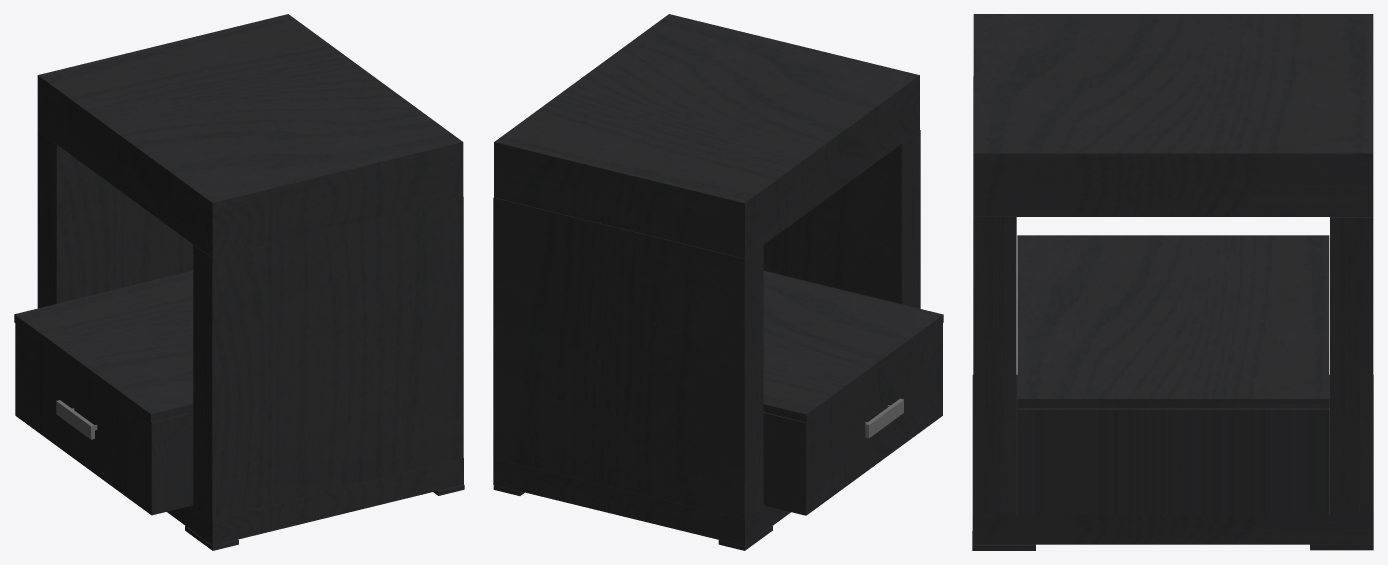
File: mul.gltf
3 views of the same model, side by side, from view 1: azimuth 30°, elevation 25°; view 2: azimuth 150°, elevation 25°; view 3: azimuth 270°, elevation 25° (orthographic). The views are drawn at different scales.
Visible parts, largest first — view 1: Cubo.001, Cubo.002; view 2: Cubo.001, Cubo.002; view 3: Cubo.001.
Boxes of the visible parts, bbox=[...] form: Cubo.001: bbox=[14, 14, 464, 550]; Cubo.002: bbox=[56, 400, 97, 439]; Cubo.001: bbox=[493, 14, 943, 550]; Cubo.002: bbox=[865, 398, 903, 438]; Cubo.001: bbox=[972, 14, 1373, 550].
Size of the model in its own units: 7.06 by 7.7 by 7.06.
2 materials, 1 textured.
